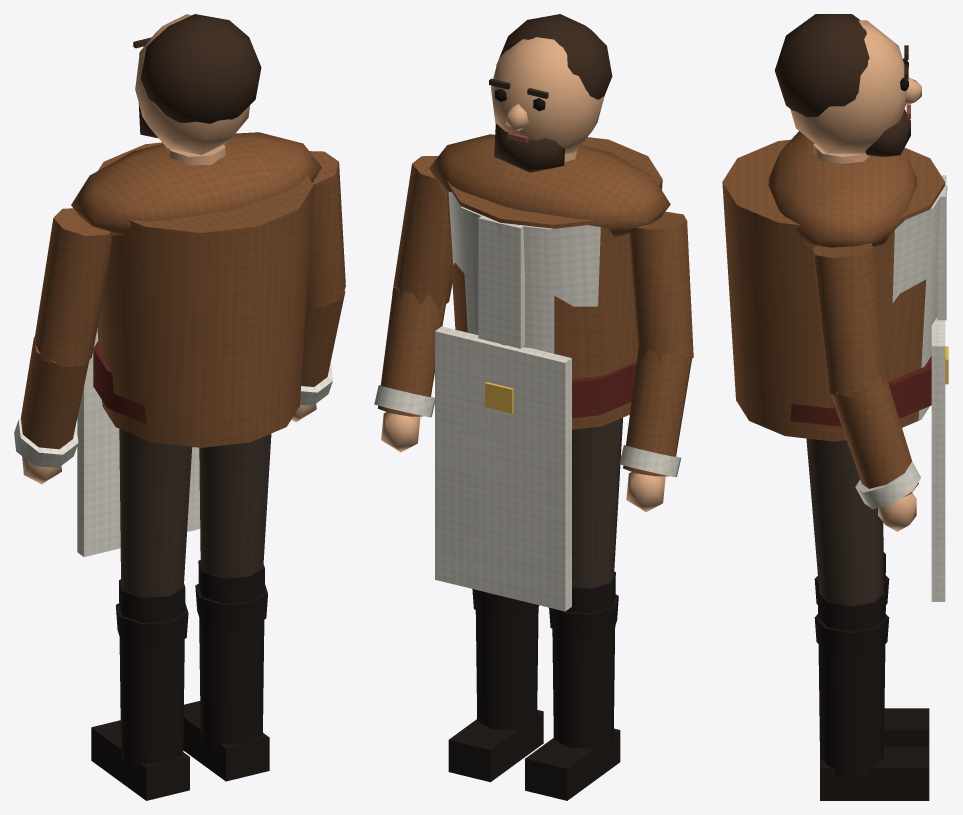
The model's file is tavern.glb.
3 views of the same model, side by side, from view 1: azimuth 30°, elevation 25°; view 2: azimuth 150°, elevation 25°; view 3: azimuth 270°, elevation 25° (orthographic). The views are drawn at different scales.
Parts seen in each view (by area): view 1: Body, ShinL, ShinR, Head, LegL, LegR, ArmL, ForearmL, ArmR, ForearmR; view 2: Body, Head, ShinL, ShinR, ArmL, ForearmL, ForearmR, LegL, ArmR; view 3: Body, Head, ShinR, LegR, ArmR, ForearmR, ShinL.
Boxes of the visible parts, x1,y1,x2,y2 form: Body: (71, 132, 321, 556); ShinL: (91, 579, 189, 800); ShinR: (183, 560, 269, 781); Head: (133, 14, 261, 154); LegL: (119, 429, 192, 597); LegR: (199, 434, 271, 577); ArmL: (33, 208, 112, 366); ForearmL: (14, 336, 90, 484); ArmR: (306, 151, 345, 307); ForearmR: (291, 288, 345, 422); Body: (429, 134, 670, 611); Head: (489, 14, 612, 172); ShinL: (525, 571, 620, 800); ShinR: (448, 589, 543, 782); ArmL: (629, 211, 693, 363); ForearmL: (619, 347, 691, 511); ForearmR: (374, 286, 445, 452); LegL: (572, 417, 622, 588); ArmR: (392, 156, 452, 308); Body: (722, 131, 948, 601); Head: (774, 14, 921, 156); ShinR: (814, 590, 929, 800); LegR: (806, 438, 883, 605); ArmR: (812, 243, 884, 396); ForearmR: (828, 371, 921, 531); ShinL: (814, 552, 929, 746).
Bounding box in the file's own units: 0.78 × 1.83 × 0.4974.
Materials: 11 (5 with a texture image).
